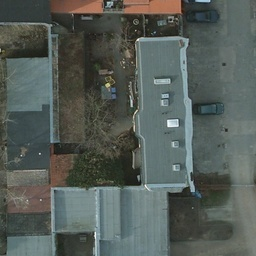car: (186, 10, 219, 23), (193, 102, 222, 115), (180, 0, 212, 2)
